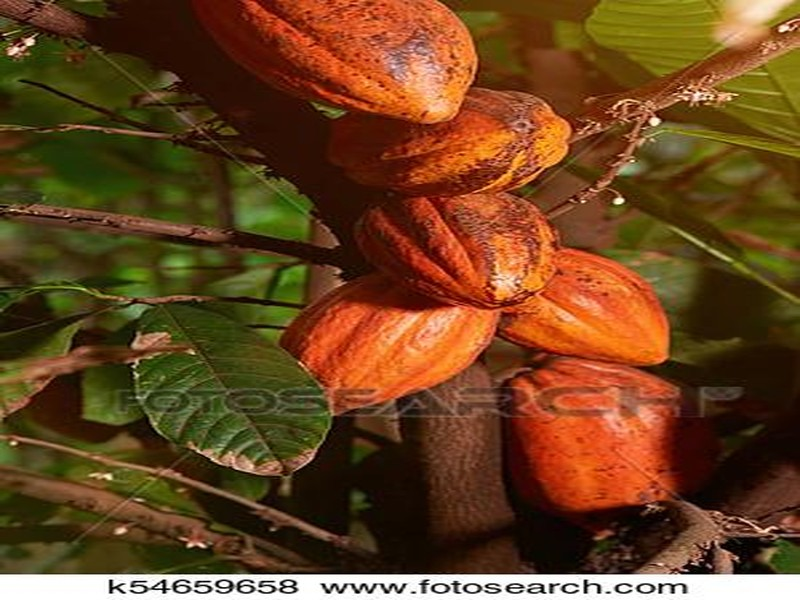Cacaopod: (194, 1, 479, 121), (353, 194, 556, 303)
